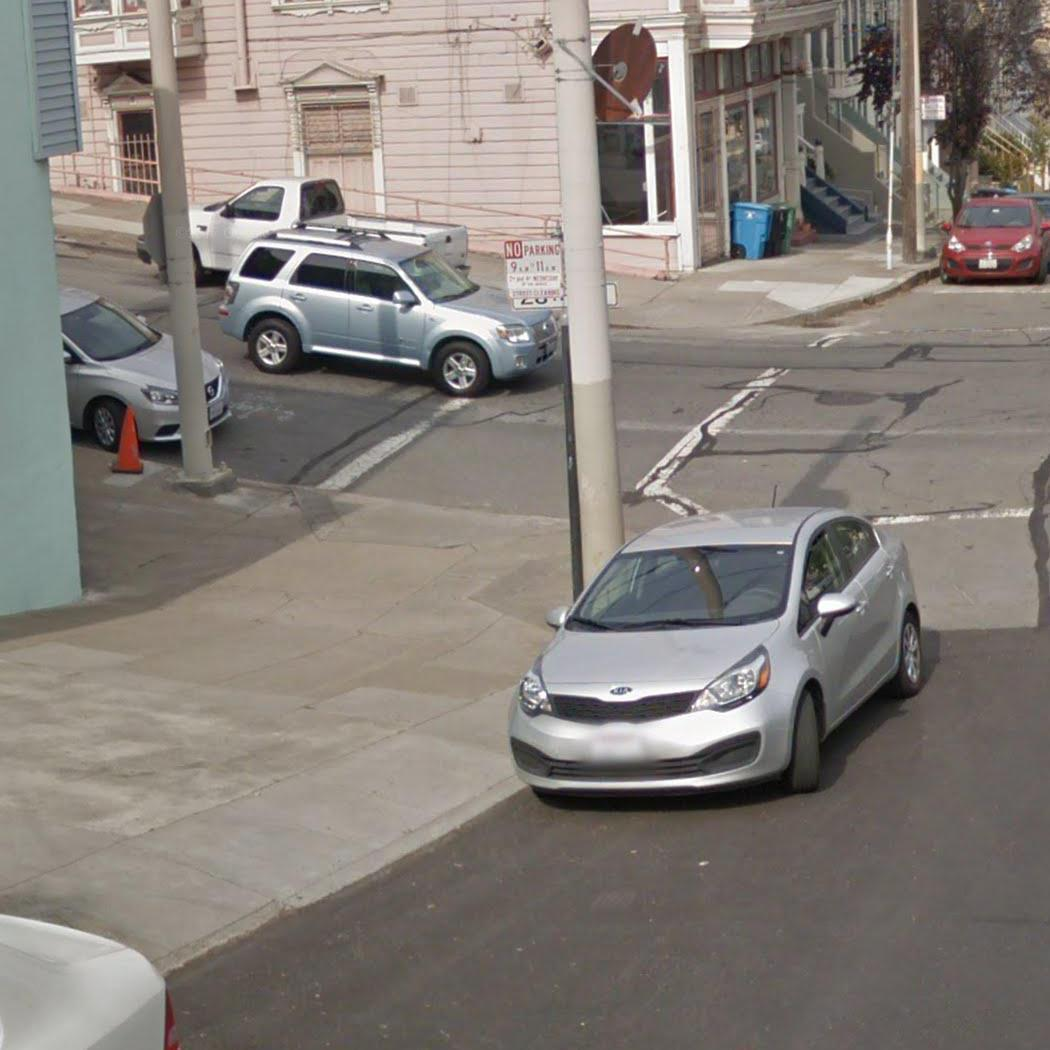No Parking: (505, 241, 569, 306)
